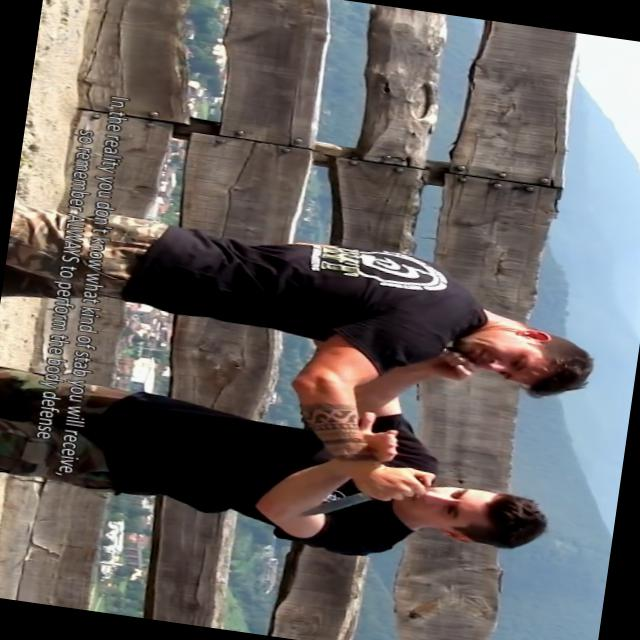knife: (298, 452, 440, 539)
